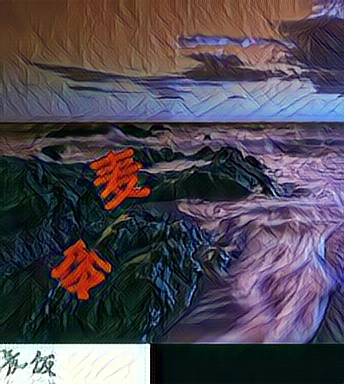B7B9: (50, 237, 112, 301)
C2F3: (88, 147, 150, 211)
